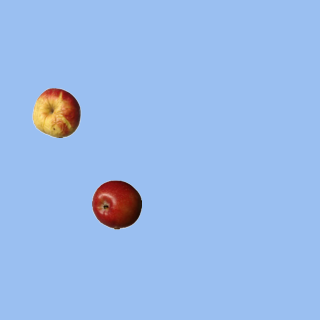Apple Braeburn: (91, 179, 141, 229)
Apple Red Yellow 1: (31, 87, 81, 137)
